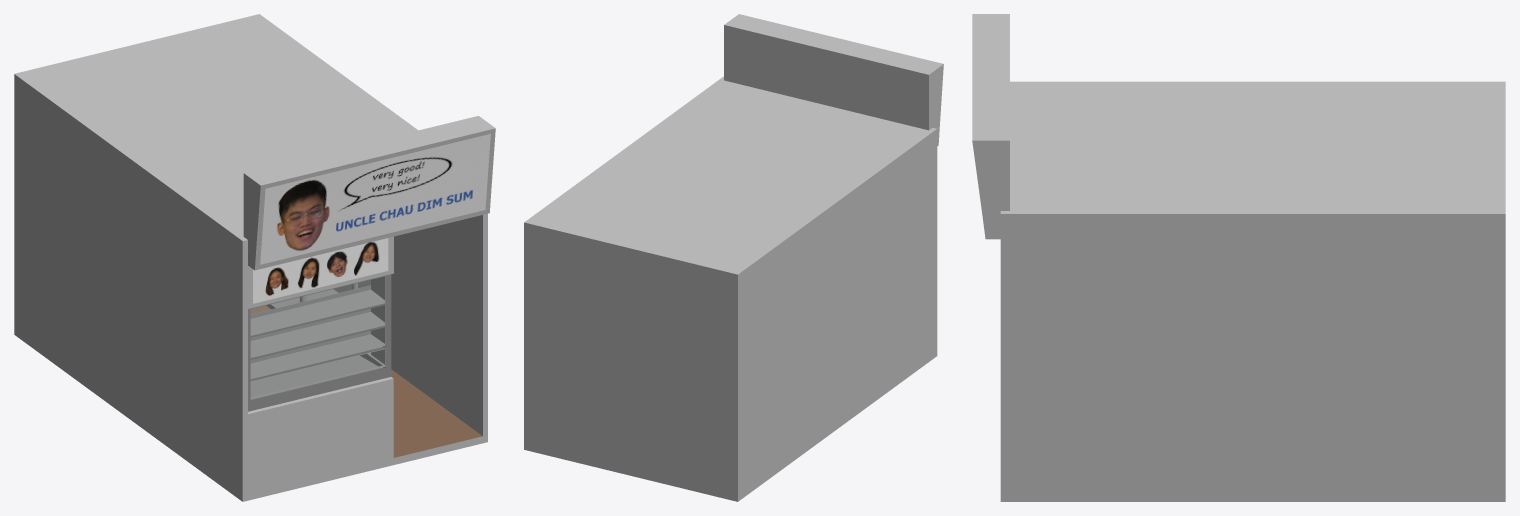
Rendered from stall1.fbx.
3 views of the same model, side by side, from view 1: azimuth 30°, elevation 25°; view 2: azimuth 150°, elevation 25°; view 3: azimuth 270°, elevation 25° (orthographic). The views are drawn at different scales.
Parts seen in each view (by area): view 1: pCube19, pCube16; view 2: pCube19; view 3: pCube19.
Part boxes in pixels (x1=…): pCube19: x1=14, y1=14, x2=495, y2=501; pCube16: x1=248, y1=274, x2=391, y2=411; pCube19: x1=524, y1=14, x2=943, y2=501; pCube19: x1=972, y1=14, x2=1505, y2=501.
Size of the model in its own units: 3.28 by 4.14 by 5.59.
